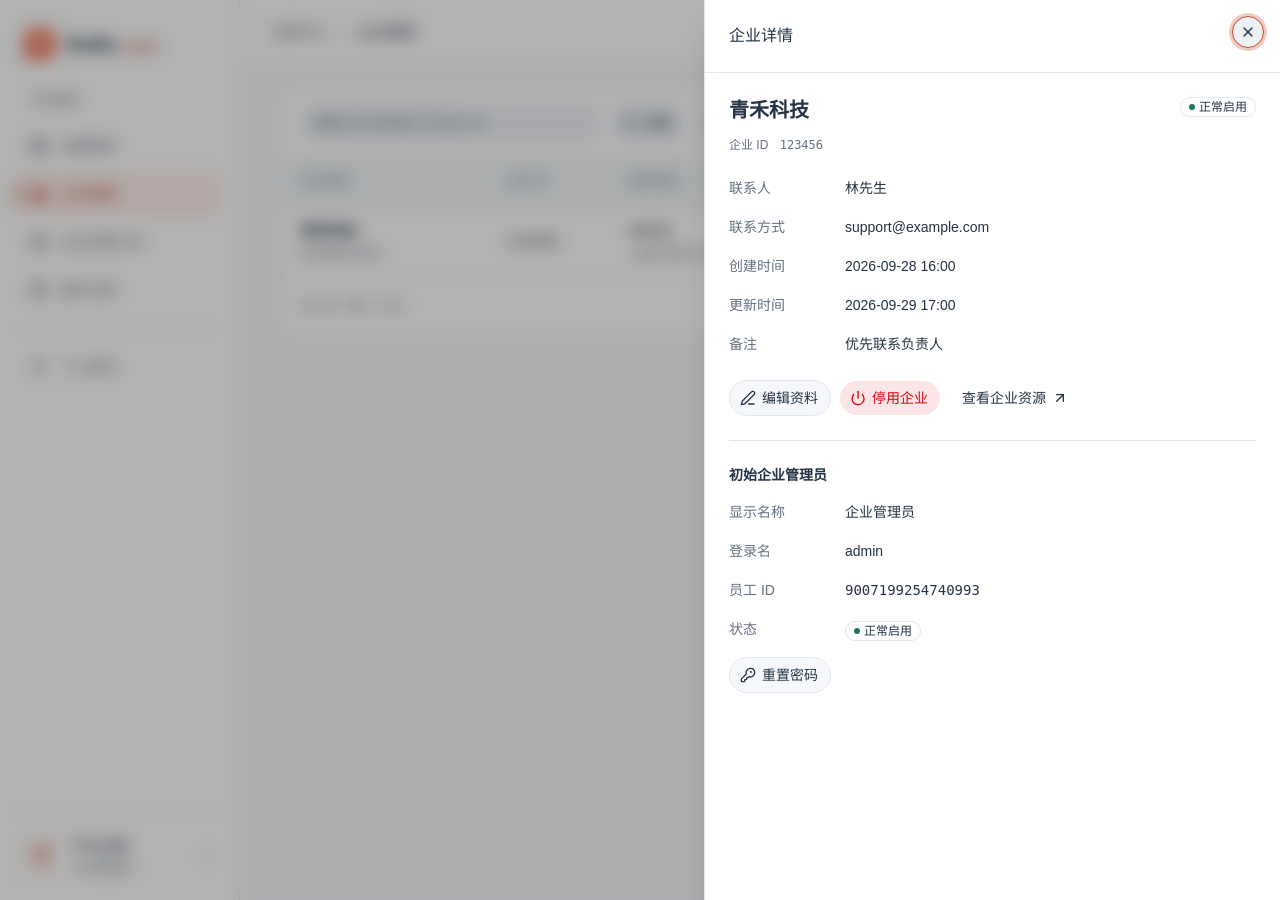
Test: 重置密码明确展示初始管理员，不匹配时不提交，成功后清除输入
Step 1. Click the button "重置密码" → click(780, 675), box top-left (729, 657), bottom-right (831, 693)
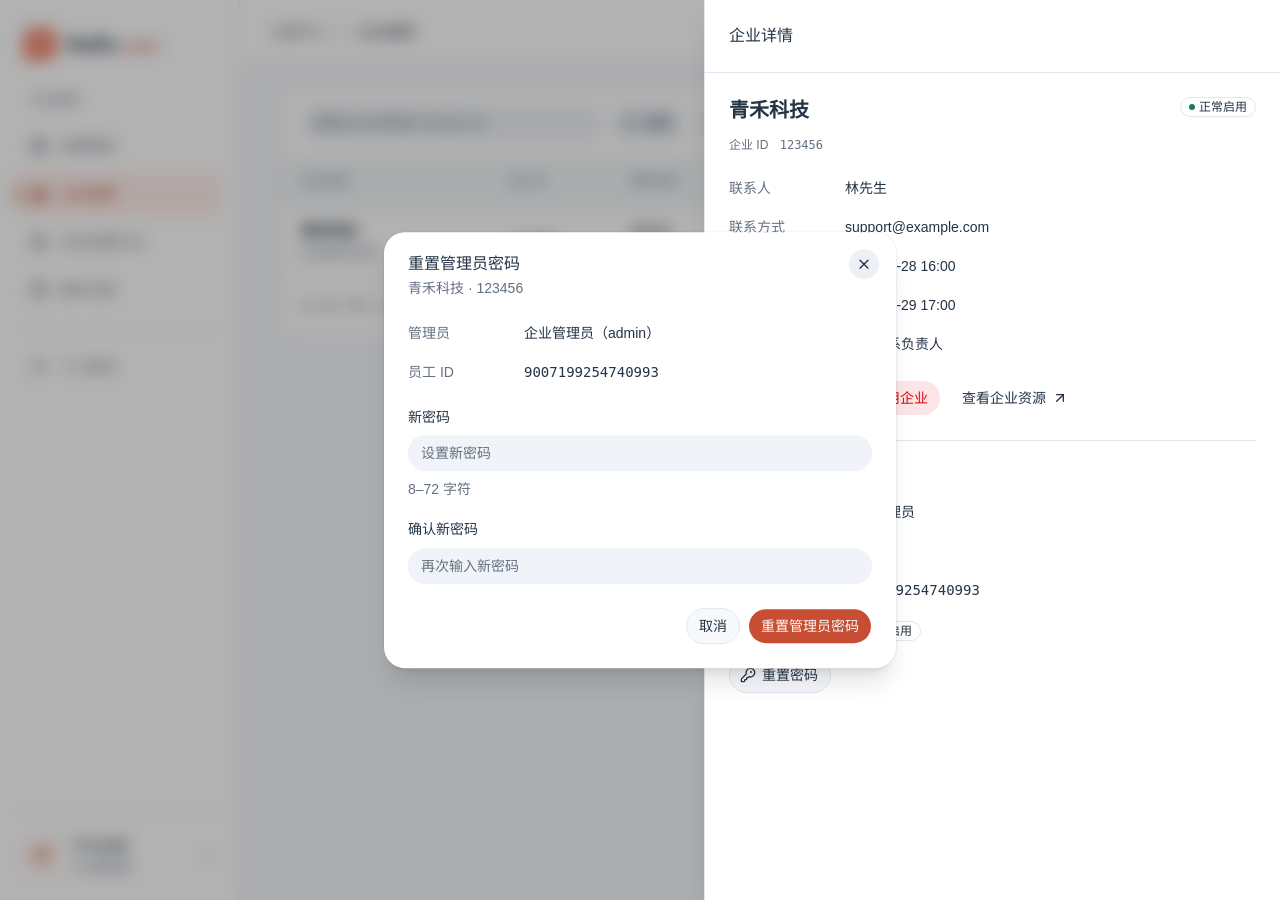
Check: the 1st text "9007199254740993" is shown, box top-left (524, 364), bottom-right (659, 380)
Step 2. Type "Changed-123" into the password field labelled "新密码" → (640, 454), box top-left (408, 436), bottom-right (872, 472)
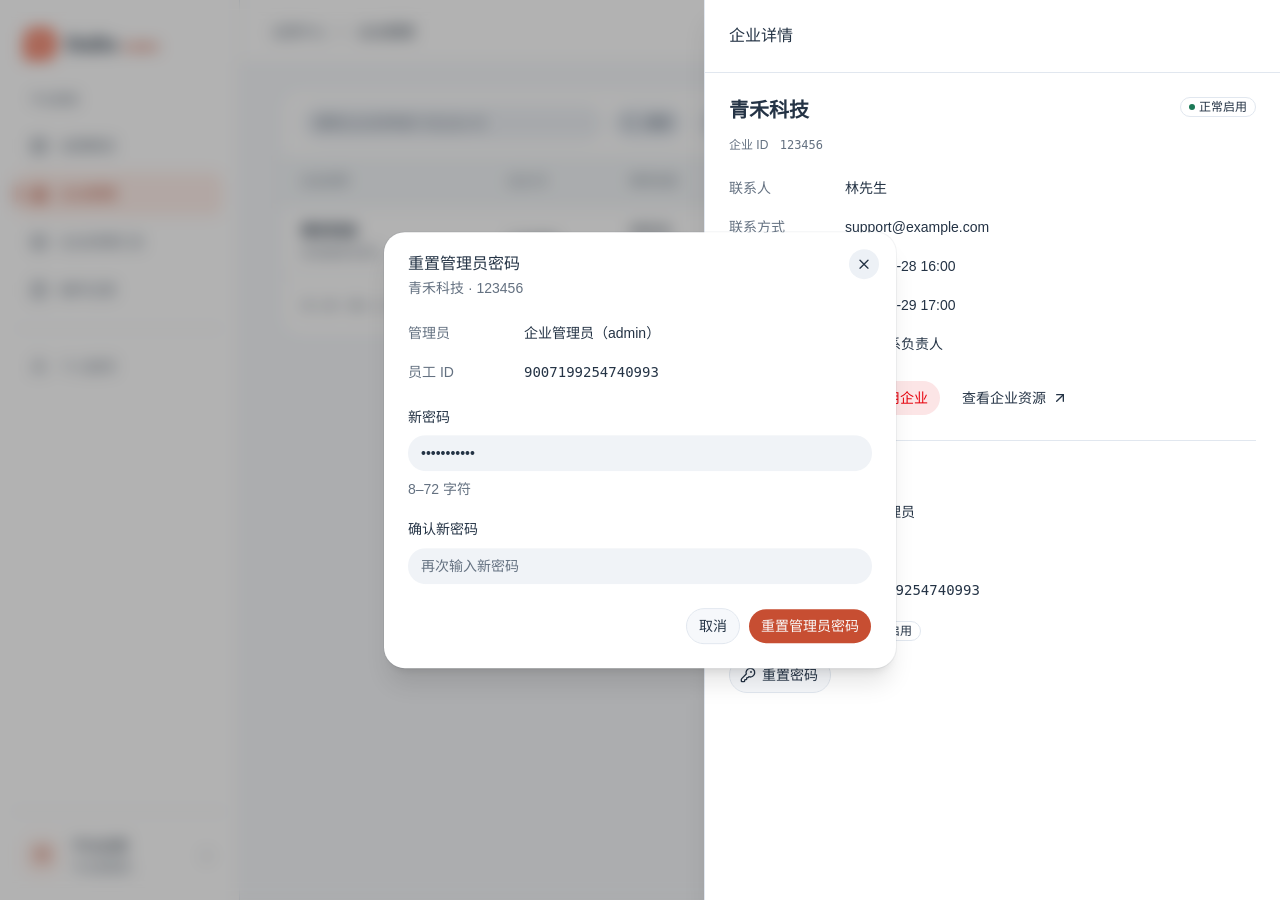
Step 3. Type "Different-123" into the password field labelled "确认新密码" → (640, 566), box top-left (408, 548), bottom-right (872, 584)
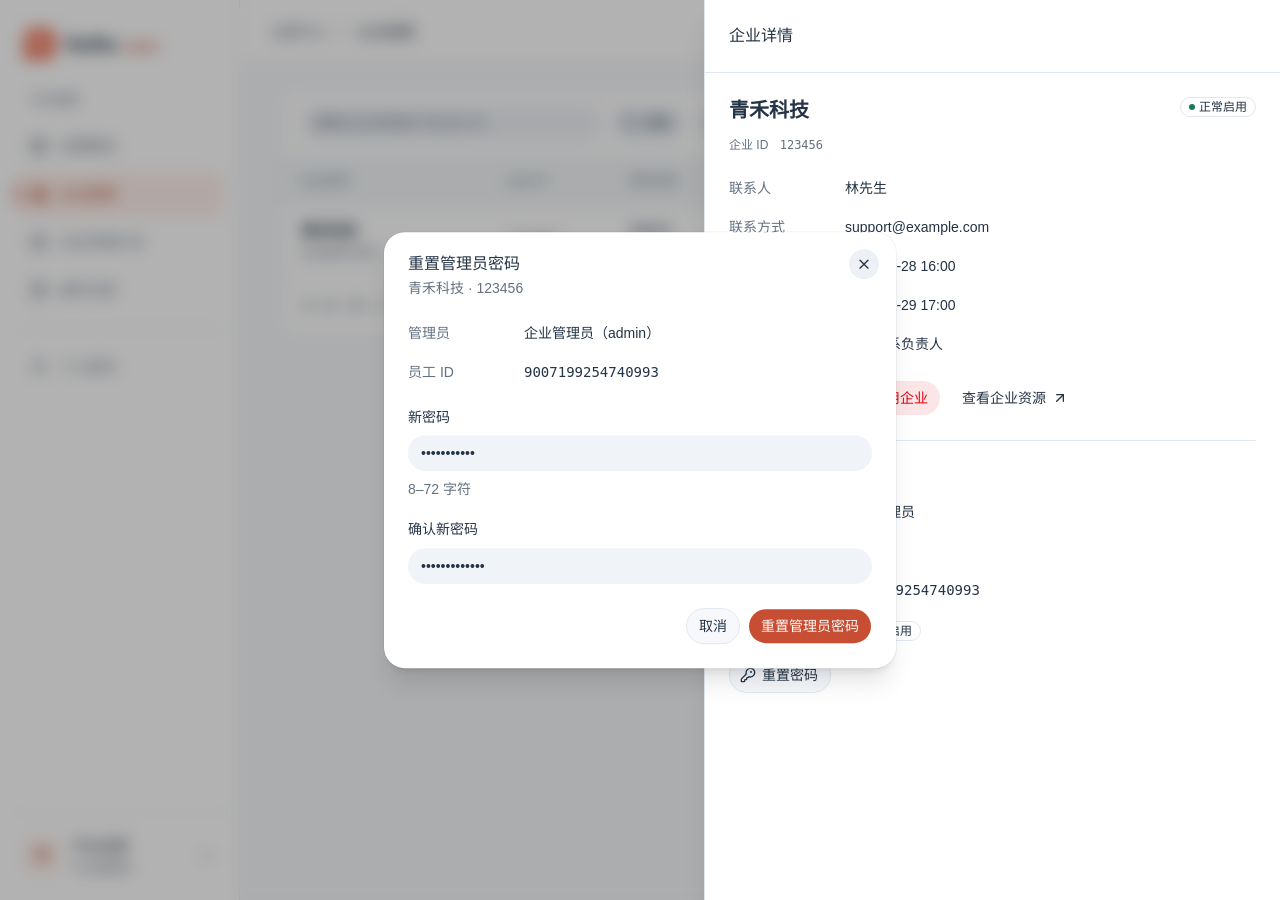
Step 4. Click the button "重置管理员密码" → click(810, 626), box top-left (748, 608), bottom-right (872, 644)
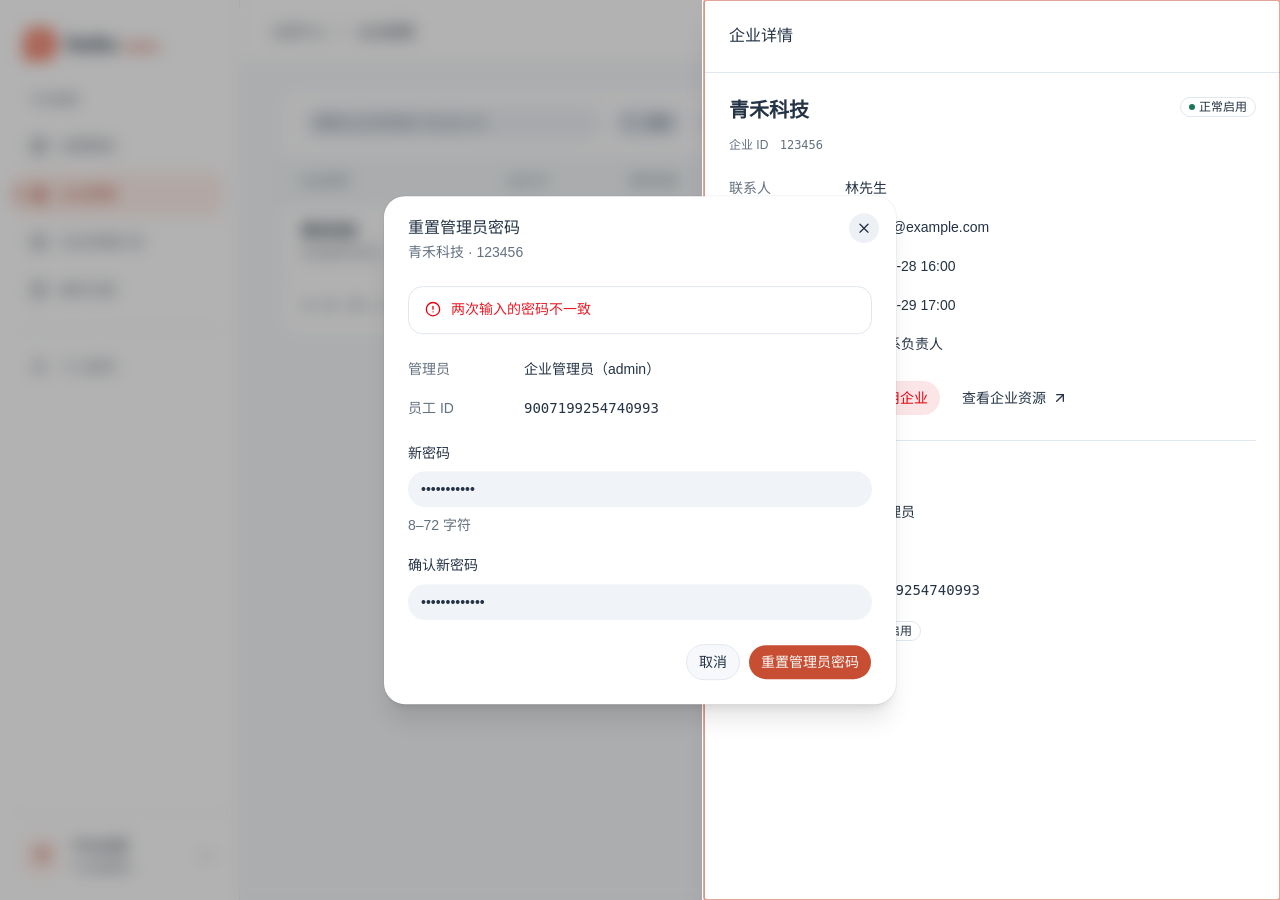
Check: the message reads "两次输入的密码不一致", box top-left (451, 301), bottom-right (591, 317)
Step 5. Type "Changed-123" into the password field labelled "确认新密码" → (640, 602), box top-left (408, 584), bottom-right (872, 620)
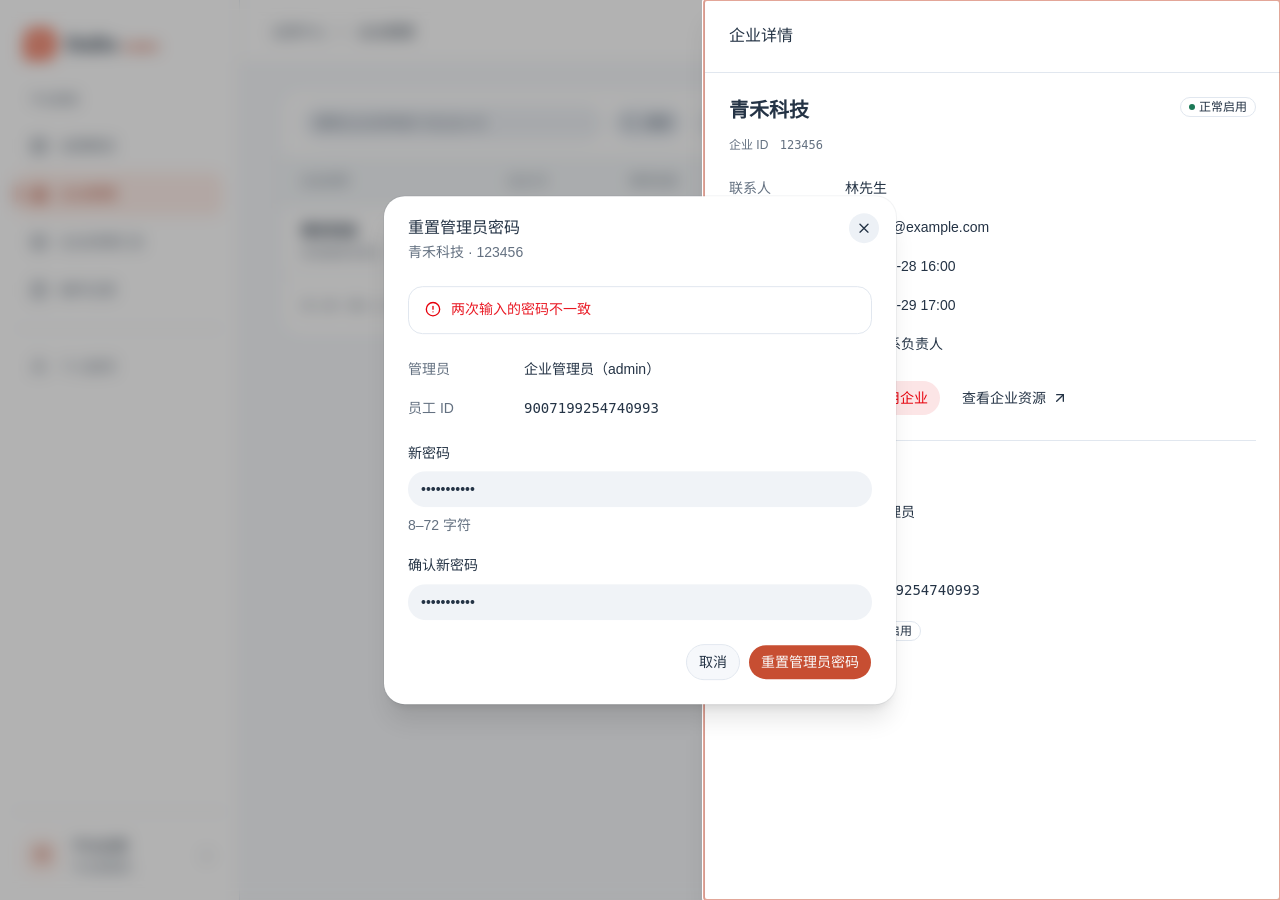
Step 6. Click the button "重置管理员密码" → click(810, 662), box top-left (748, 644), bottom-right (872, 680)
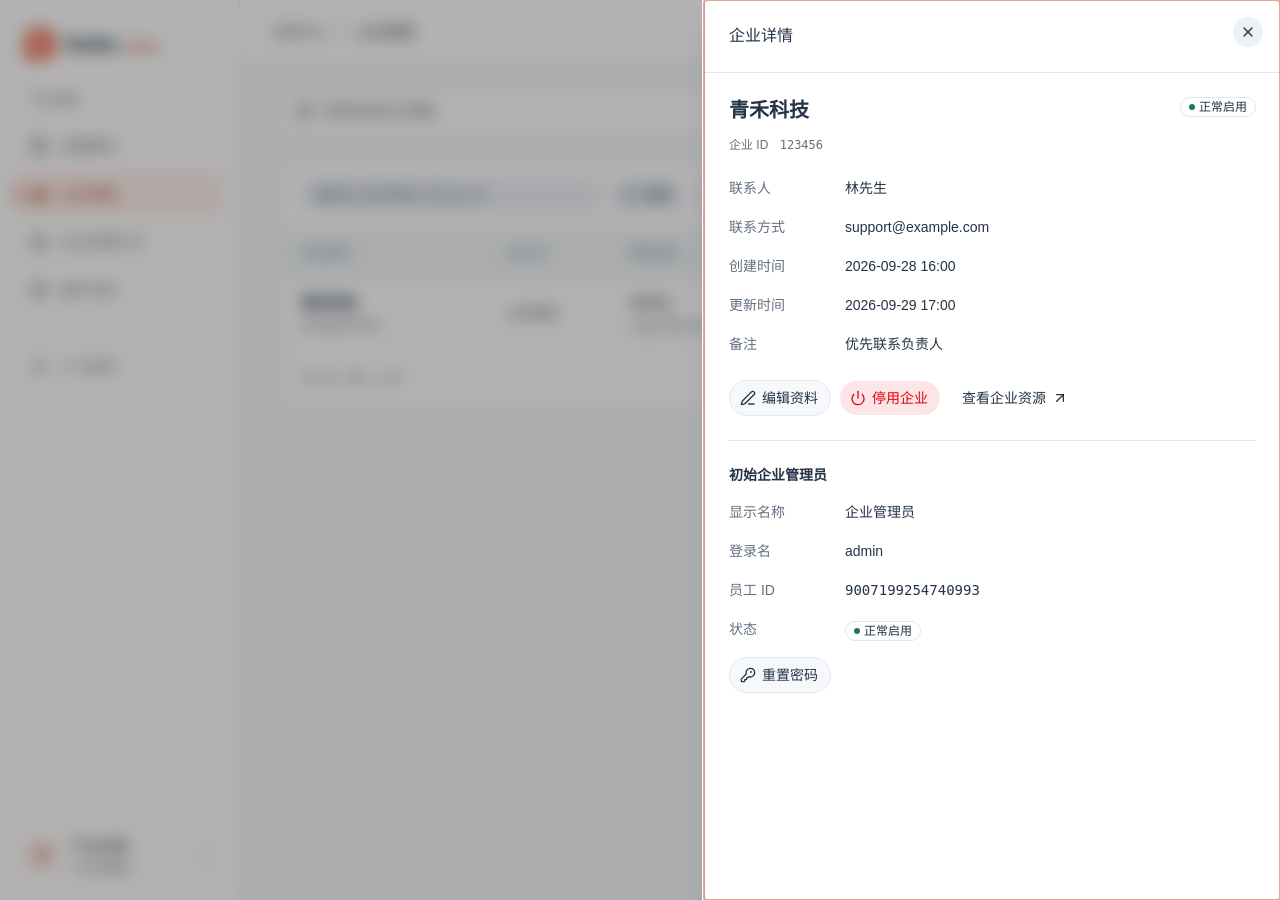
Check: the button "重置密码" is shown, box top-left (729, 657), bottom-right (831, 693)
Check: the label labelled "新密码" is gone
